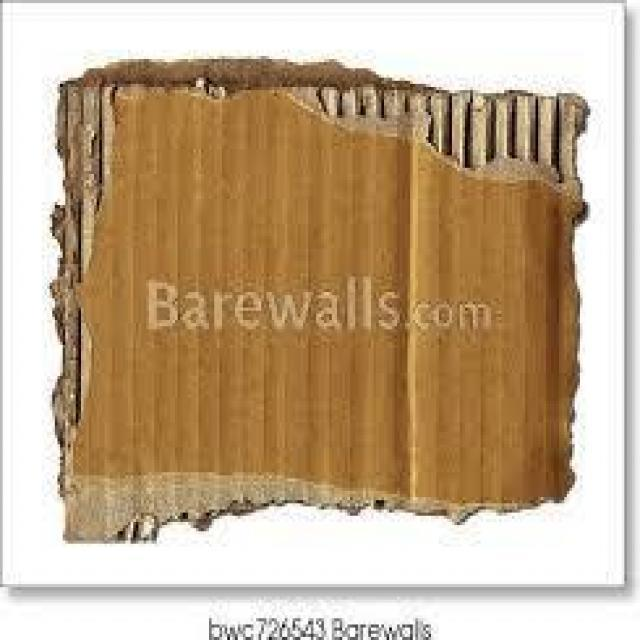box: (50, 59, 590, 541)
